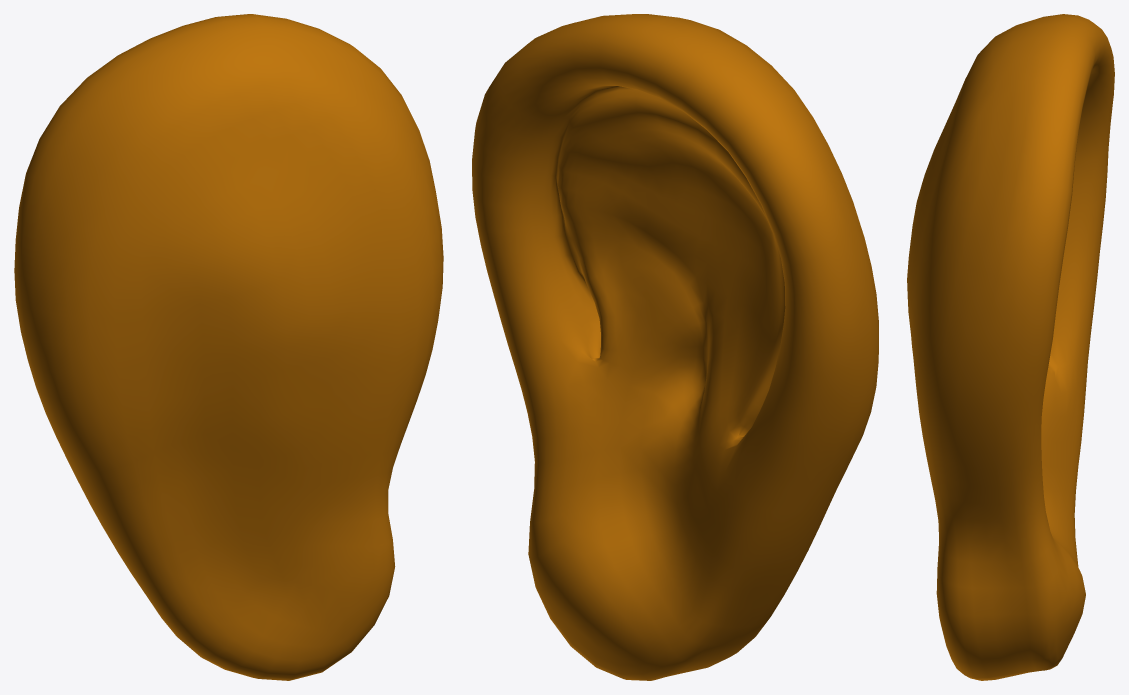
The model's file is ear FBX.FBX.
The picture shows the model from 3 angles, left to right: view 1: azimuth 30°, elevation 25°; view 2: azimuth 150°, elevation 25°; view 3: azimuth 270°, elevation 25°; orthographic projection. The views are drawn at different scales.
Parts seen in each view (by area): view 1: Group16514; view 2: Group16514; view 3: Group16514.
Boxes of the visible parts, x1,y1,x2,y2 form: Group16514: (14,14,443,680); Group16514: (472,14,878,680); Group16514: (907,14,1114,680).
Size of the model in its own units: 13.03 by 20.82 by 6.31.
